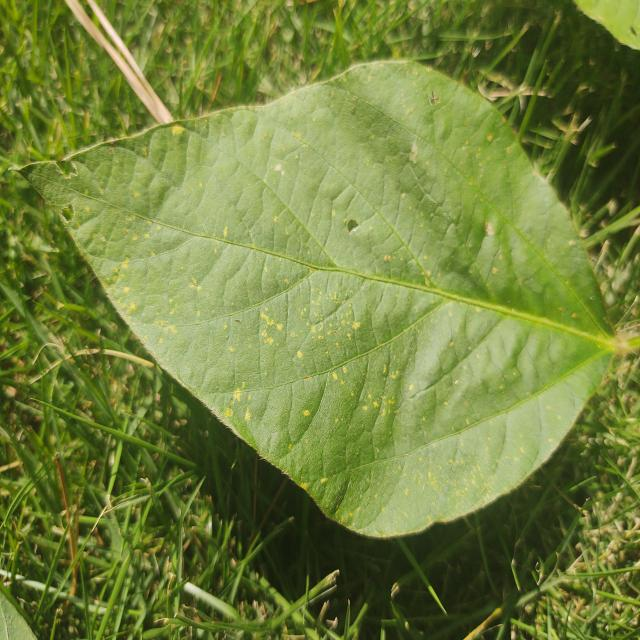Soybean: (30, 58, 620, 545)
downey_mildew: (412, 270, 561, 463), (240, 289, 334, 414), (279, 273, 365, 367), (106, 242, 182, 334), (453, 134, 504, 211), (442, 442, 501, 504), (319, 148, 367, 201), (171, 124, 184, 135), (233, 390, 242, 401), (244, 411, 251, 421), (223, 226, 228, 238), (123, 287, 130, 295), (276, 323, 283, 331), (383, 254, 390, 262), (301, 482, 308, 490), (275, 164, 282, 172), (225, 408, 231, 417), (321, 477, 328, 484), (487, 134, 493, 142), (492, 267, 498, 275), (408, 384, 414, 391), (425, 279, 431, 286), (571, 313, 577, 319), (273, 216, 278, 222), (449, 341, 454, 347), (109, 148, 114, 154), (454, 379, 459, 385), (281, 169, 285, 175)
